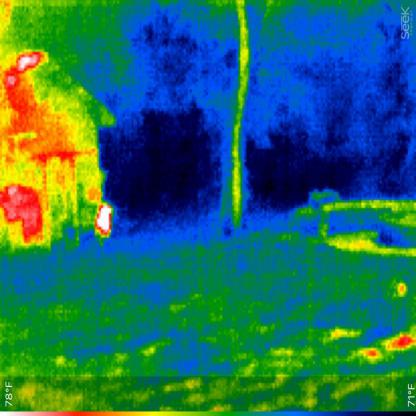dog: (92, 199, 115, 241)
